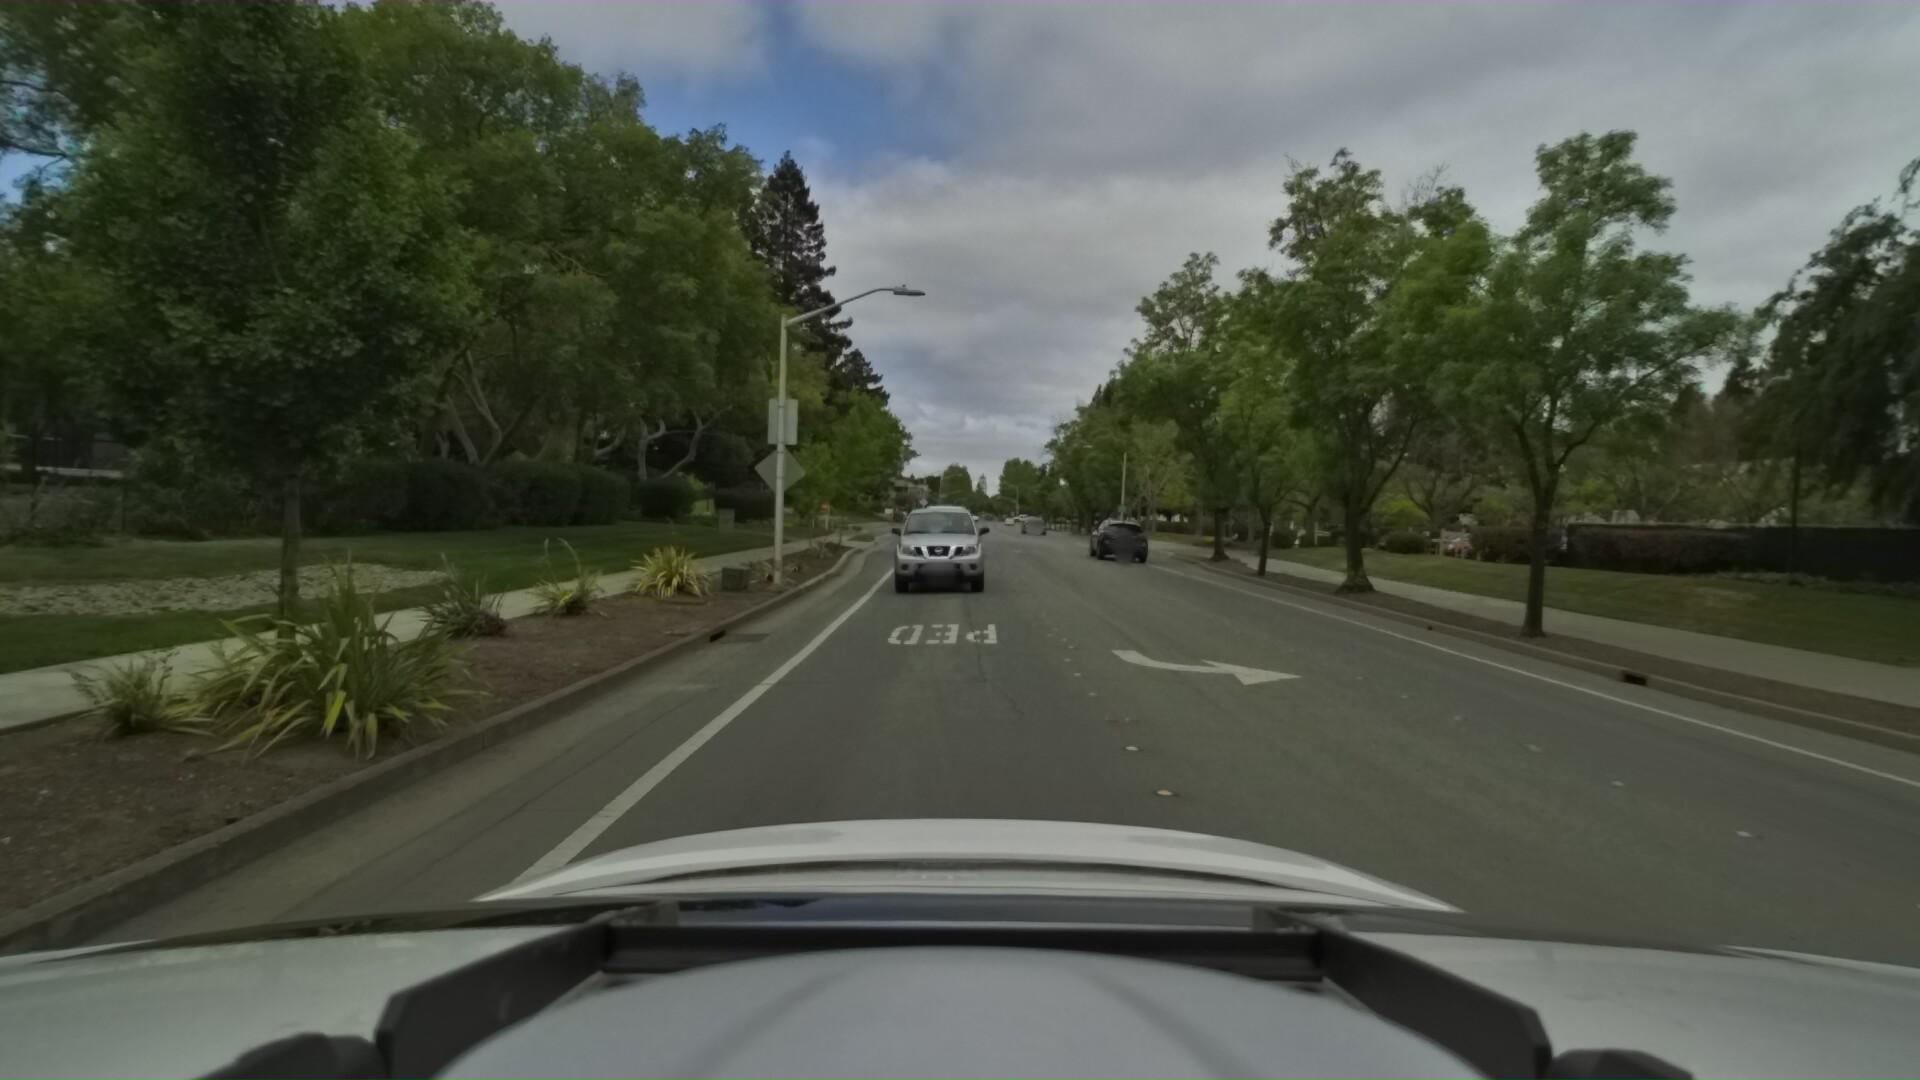car: (880, 493, 989, 599), (909, 495, 975, 556), (1087, 512, 1153, 564), (1017, 516, 1044, 535)
